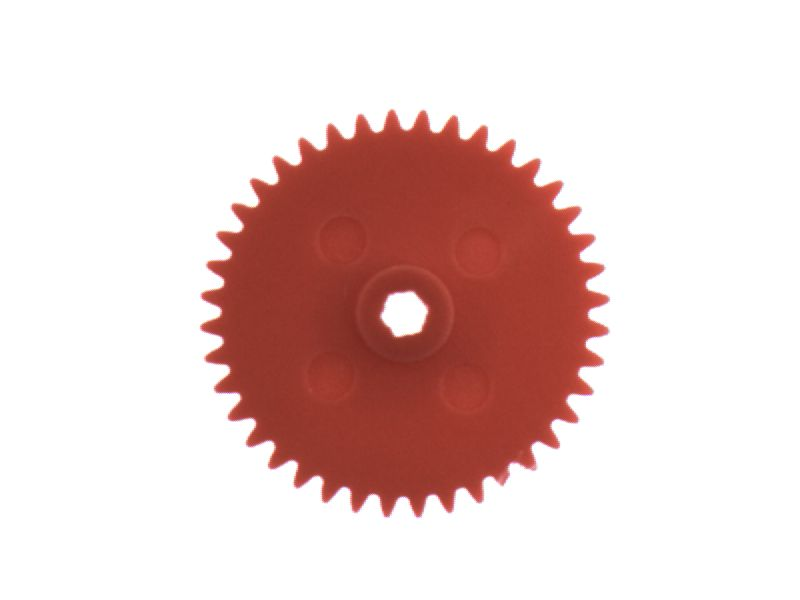defect_break: (482, 463, 533, 499)
